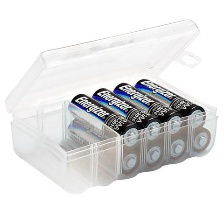battery: (92, 109, 166, 176), (66, 116, 143, 179), (65, 92, 141, 153), (133, 76, 208, 137), (112, 82, 186, 143), (88, 88, 163, 147), (124, 100, 188, 165), (142, 97, 212, 156)
plastic_box: (3, 14, 222, 198)
